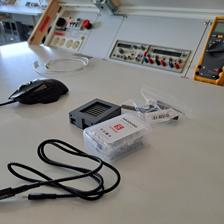mouse: (7, 77, 70, 105)
